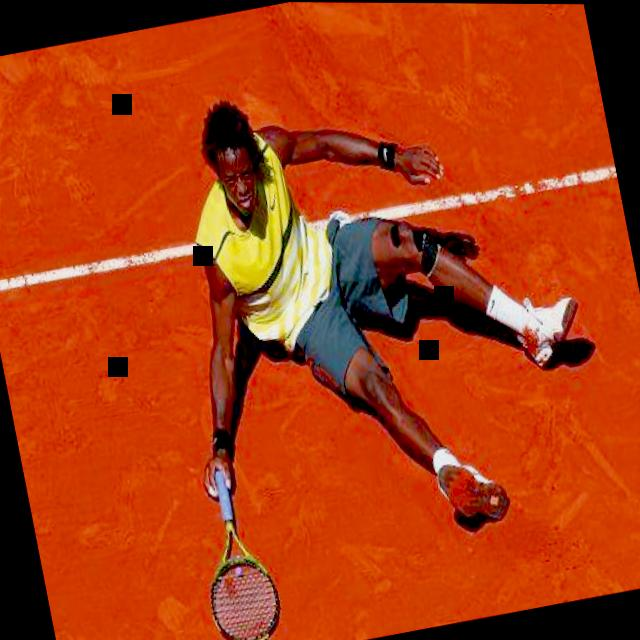Fall-Detected: (125, 31, 637, 538)
